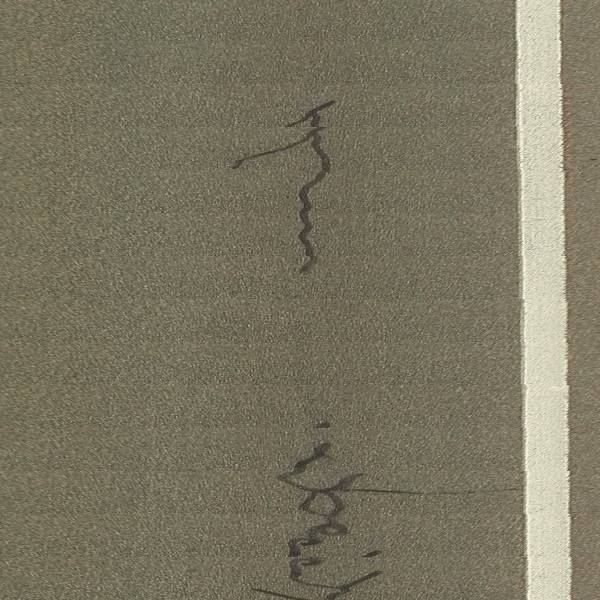road_damage: (271, 416, 397, 600), (283, 96, 336, 284)
